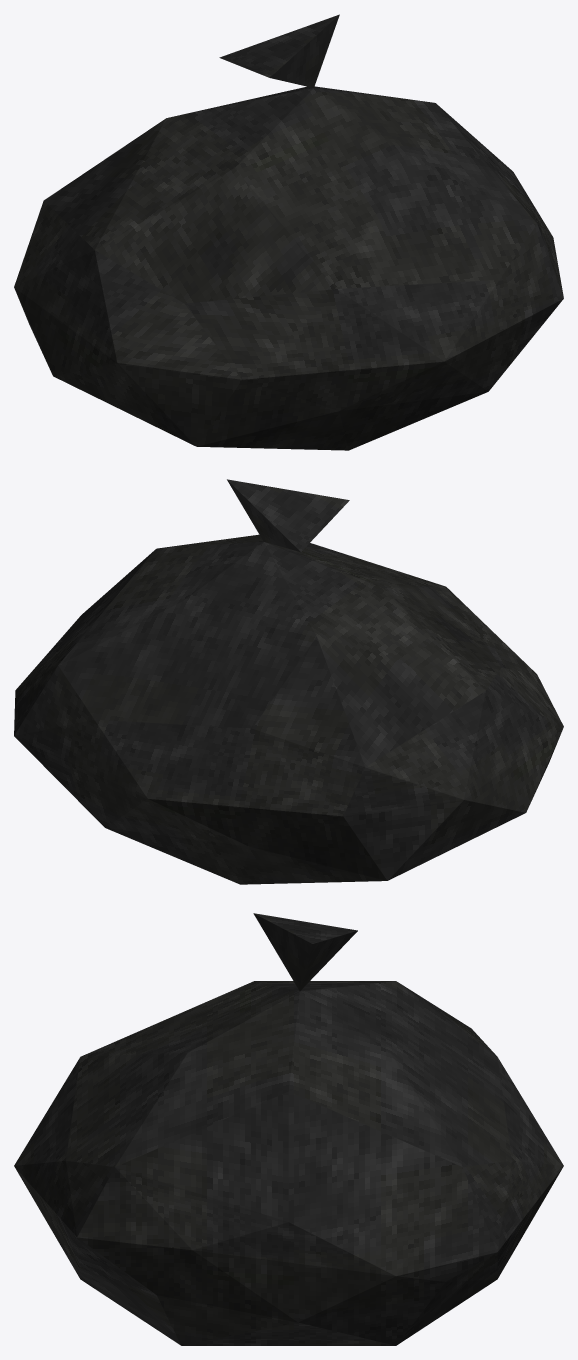
Rendered from trashbag_2.glb.
3 views of the same model, one above another, from view 1: azimuth 30°, elevation 25°; view 2: azimuth 150°, elevation 25°; view 3: azimuth 270°, elevation 25° (orthographic). The views are drawn at different scales.
Visible parts, largest first — view 1: TrashBag1/3Full; view 2: TrashBag1/3Full; view 3: TrashBag1/3Full.
Boxes of the visible parts, x1,y1,x2,y2 form: TrashBag1/3Full: (14,14,563,450); TrashBag1/3Full: (14,479,563,884); TrashBag1/3Full: (14,913,563,1345).
Bounding box in the file's own units: 0.8227 × 0.6444 × 0.7909.
Materials: 1 (1 with a texture image).
